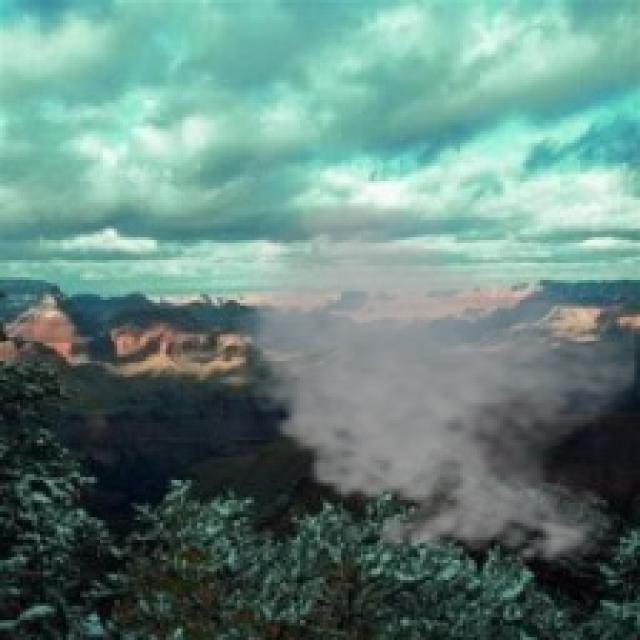smoke: (220, 192, 637, 577)
